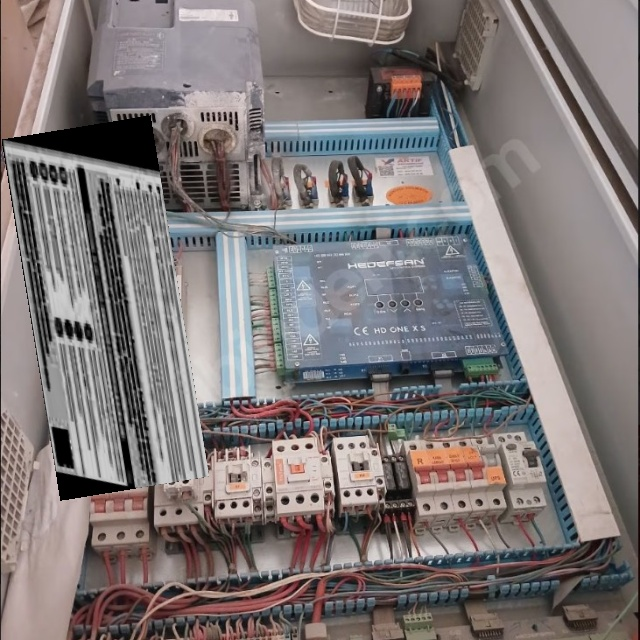electricity-bill: (1, 115, 208, 501)
